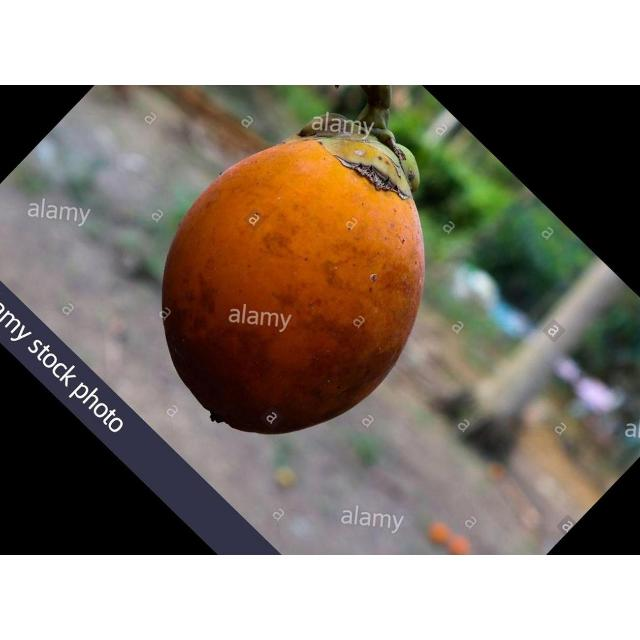good: (160, 118, 425, 437)
